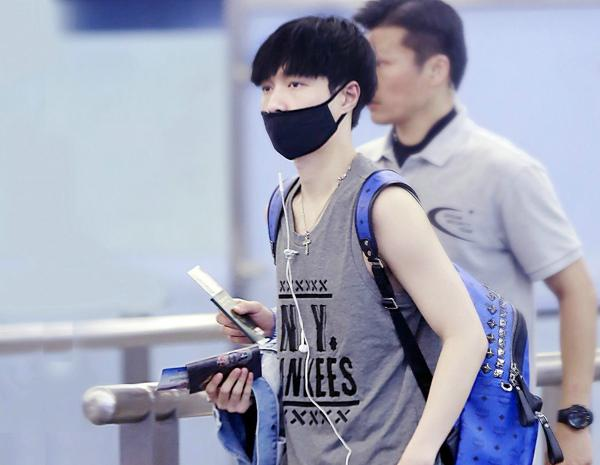NONE: (360, 46, 415, 125)
WRONG: (262, 64, 330, 157)
